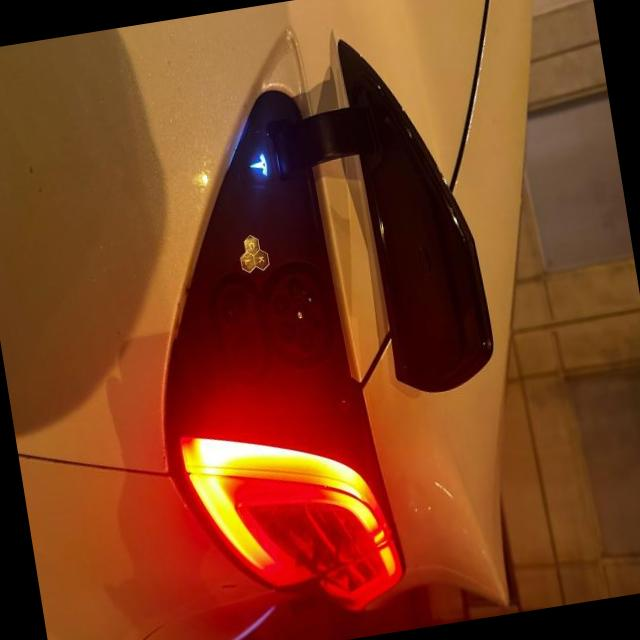inlet: (268, 274, 327, 357)
inlet-above-left: (305, 290, 317, 308)
inlet-above-right: (310, 316, 322, 333)
inlet-below-left: (272, 294, 290, 318)
inlet-below-right: (277, 320, 295, 343)
inlet-center: (291, 302, 309, 327)
inlet-center-left: (286, 277, 304, 301)
inlet-center-right: (297, 329, 314, 352)
